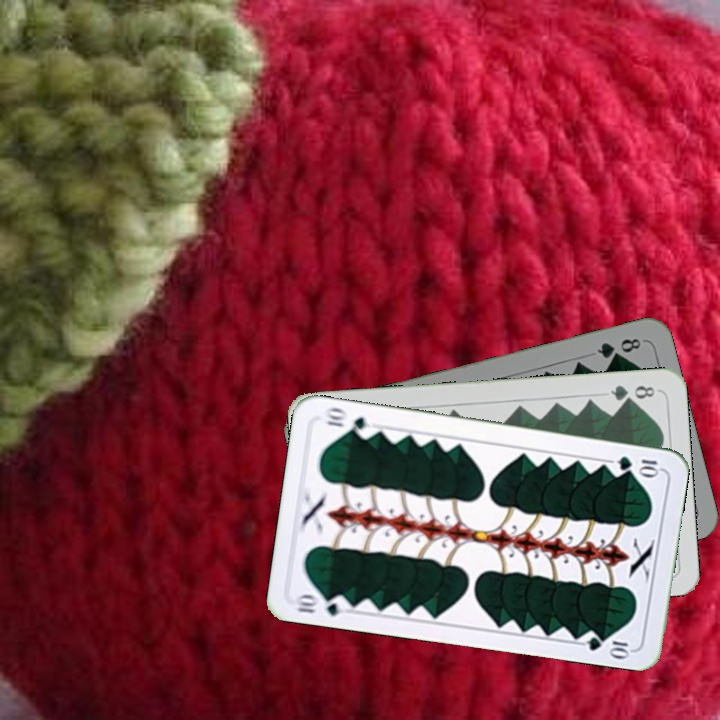G10: (291, 590, 351, 619), (614, 452, 663, 477)
G8: (593, 334, 644, 361), (606, 381, 658, 405)
